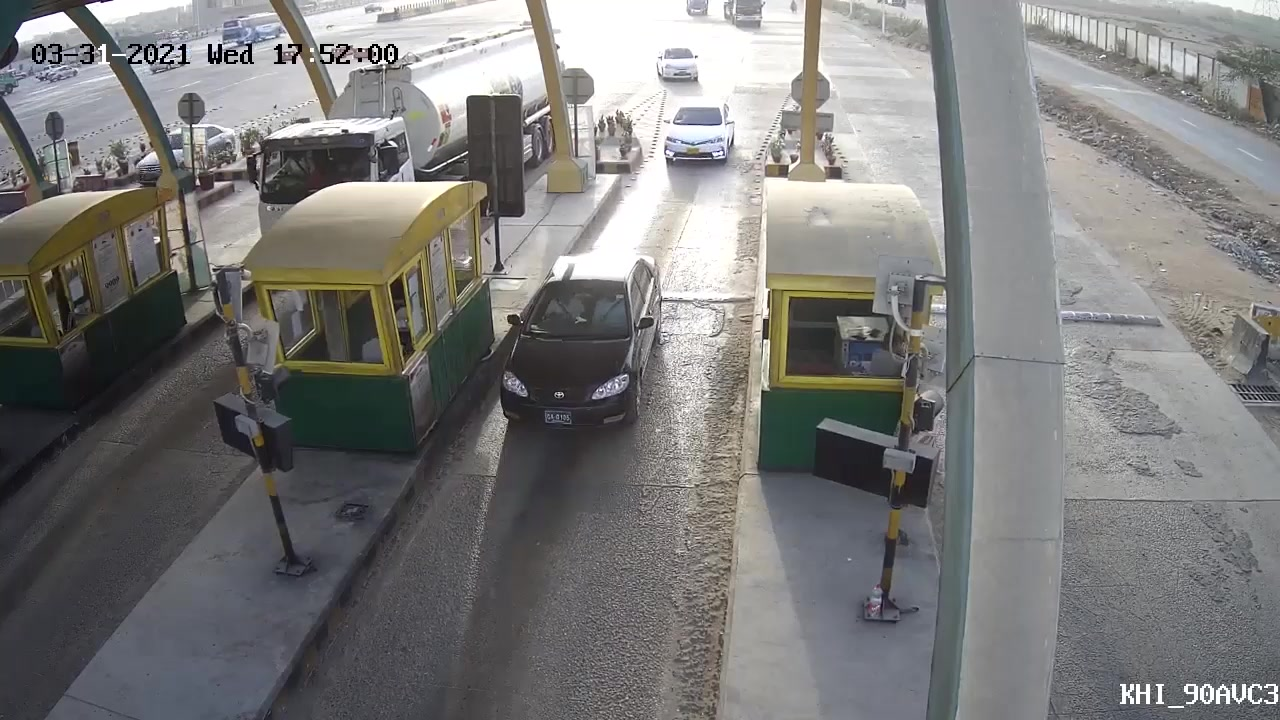F1: (487, 249, 668, 447)
